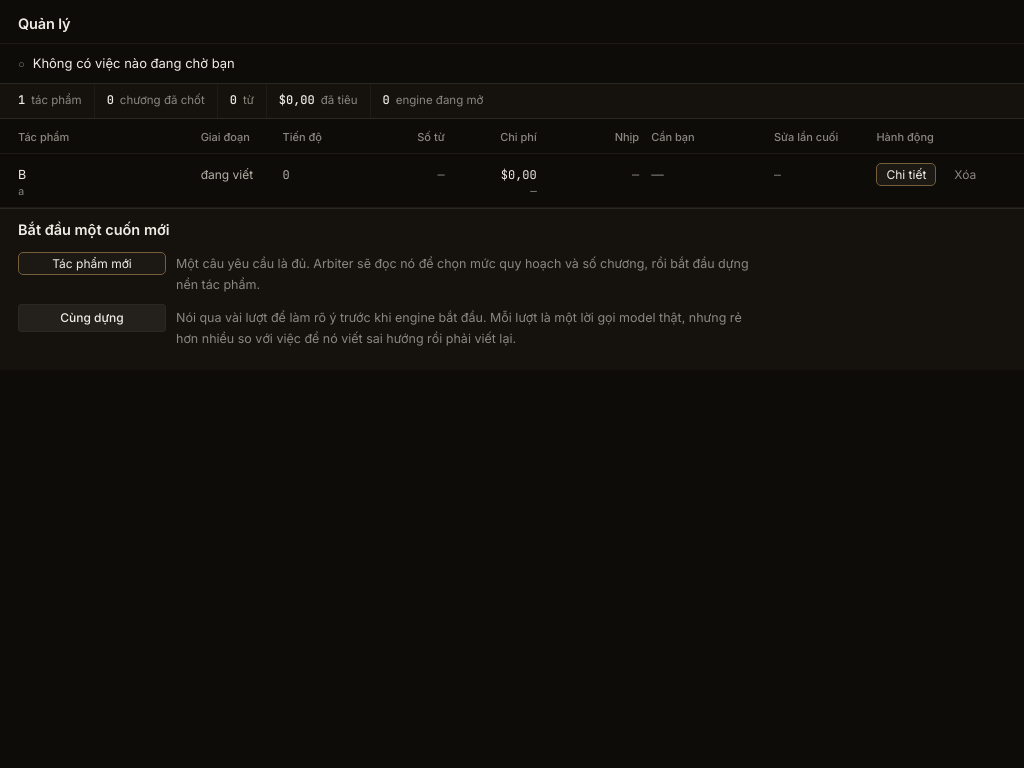
hộp xác nhận đặt focus vào Hủy
Step 1. Click the button "Xóa" → (965, 175), box [944, 163, 986, 186]
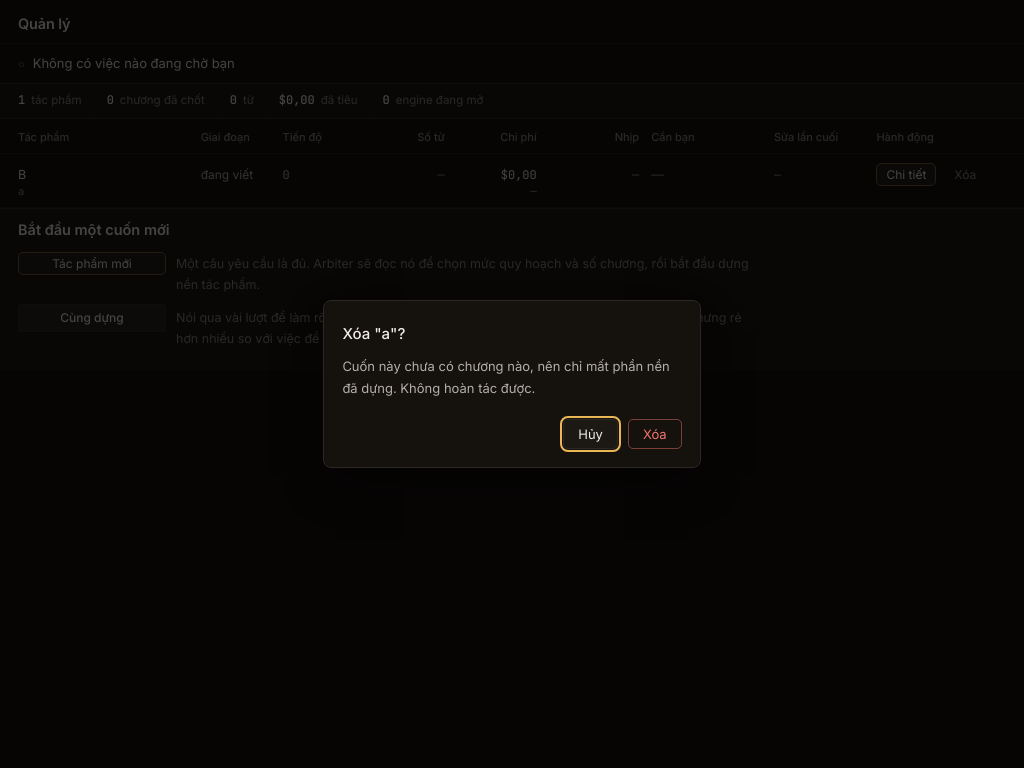
Check: the button "Hủy" is shown, box [563, 419, 618, 449]
